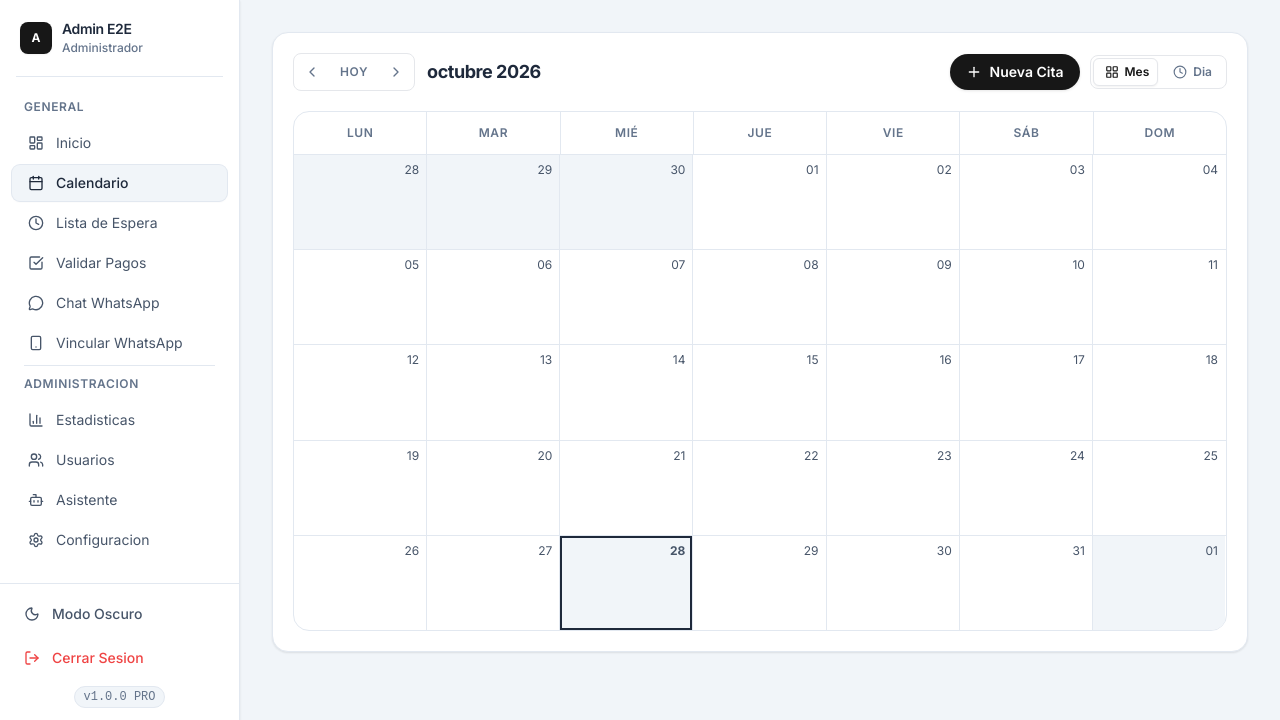
Test case: Calendario — crear cita › muestra el error del backend ante conflicto de horario
The image size is (1280, 720).
Click the button "Nueva Cita". click: (1015, 72)
box: [950, 54, 1080, 90]
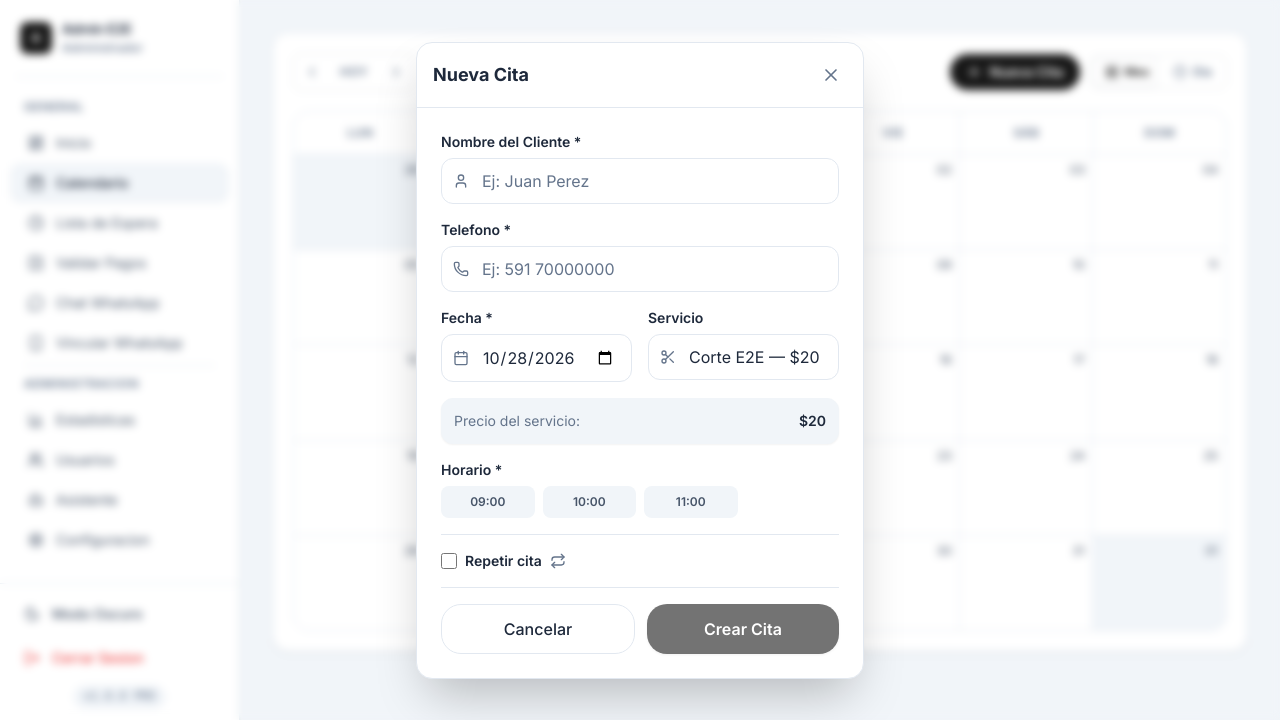
expect the dialog is shown: met, box [416, 42, 864, 679]
Type "Juan E2E" into the field with placeholder "Ej: Juan Perez". click: (640, 181)
box: [441, 158, 839, 204]
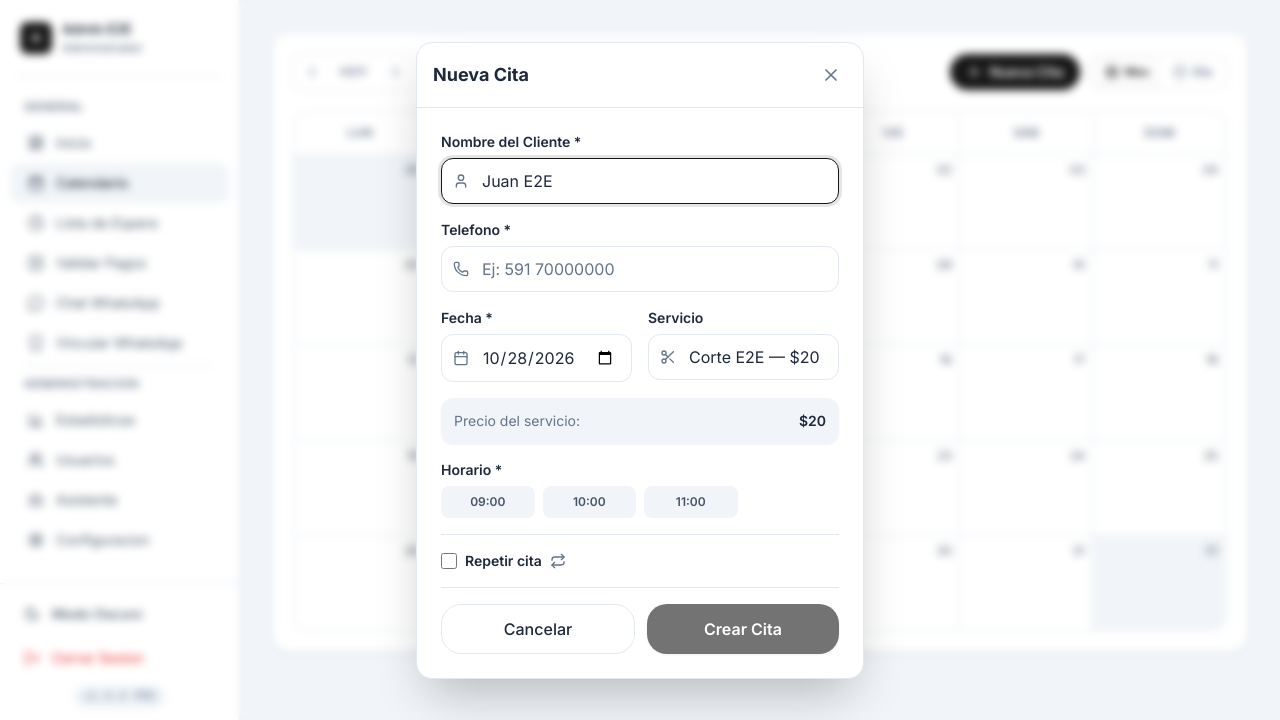
Type "61234567" into the field with placeholder "Ej: 591 70000000". click: (640, 269)
box: [441, 246, 839, 292]
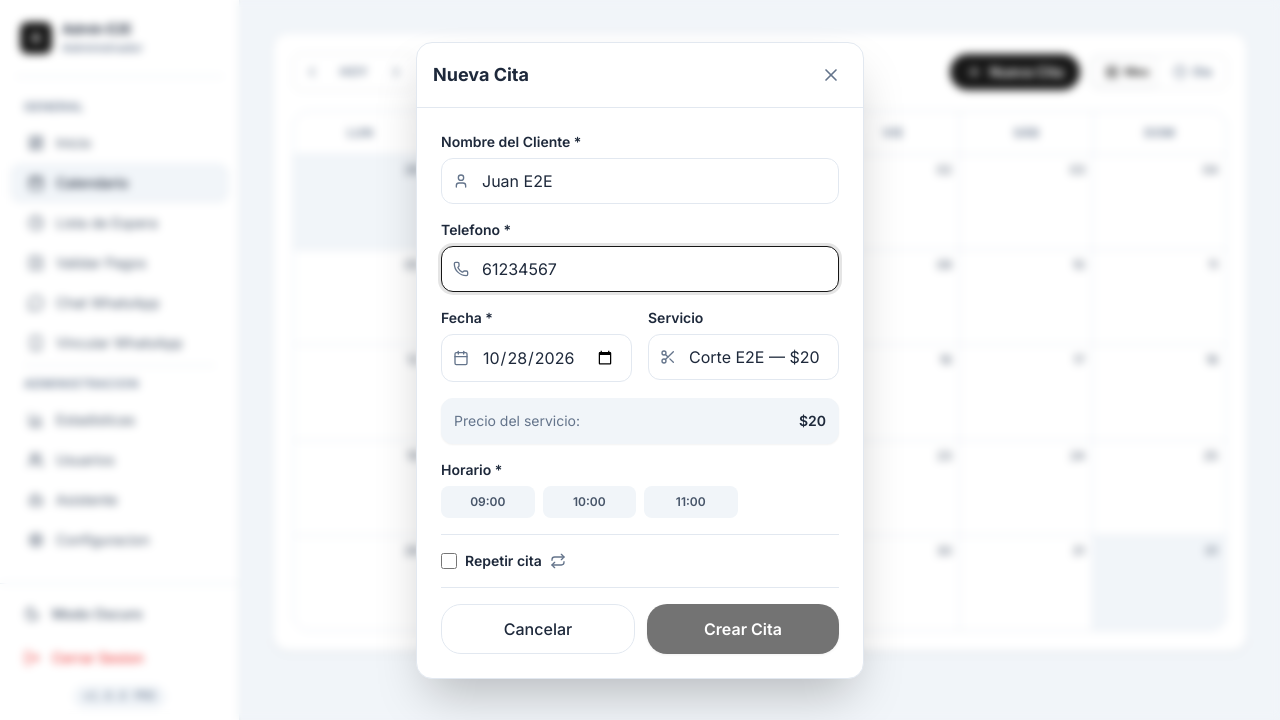
Select "Corte E2E — $20 (30 min)" in the dropdown. click: (744, 357)
box: [648, 334, 839, 380]
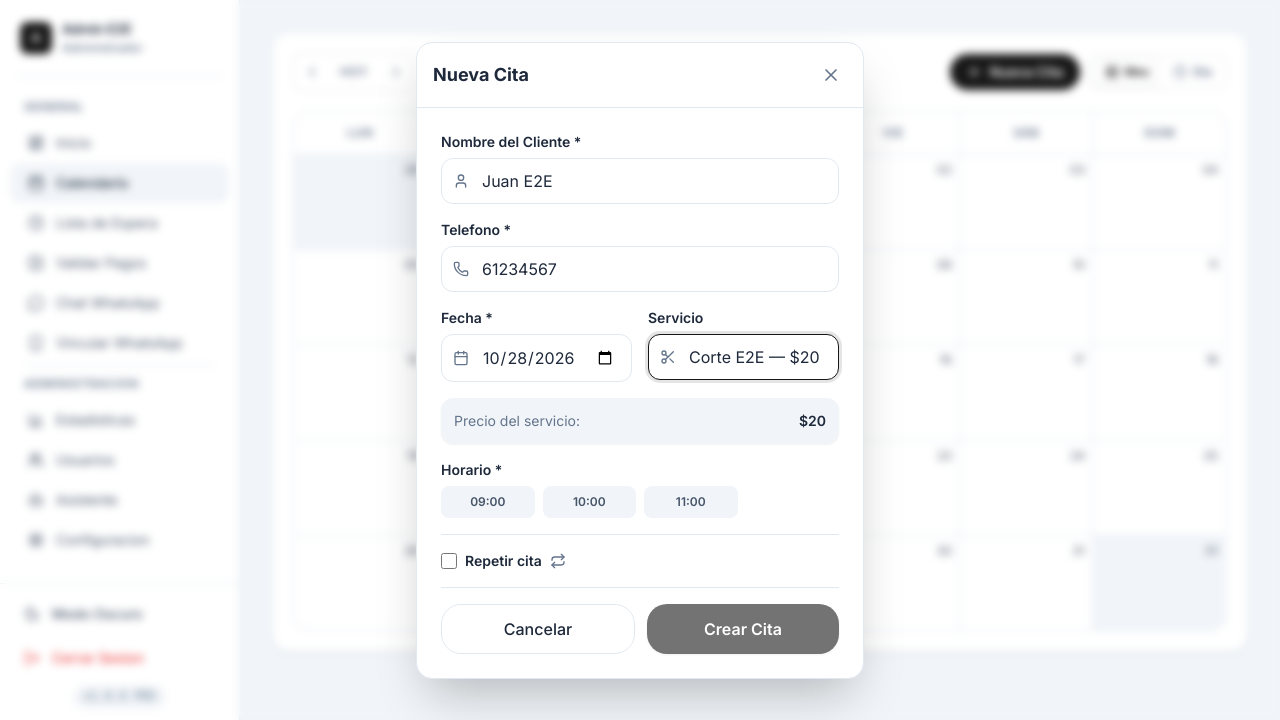
Click the button "09:00". click: (488, 502)
box: [441, 486, 535, 518]
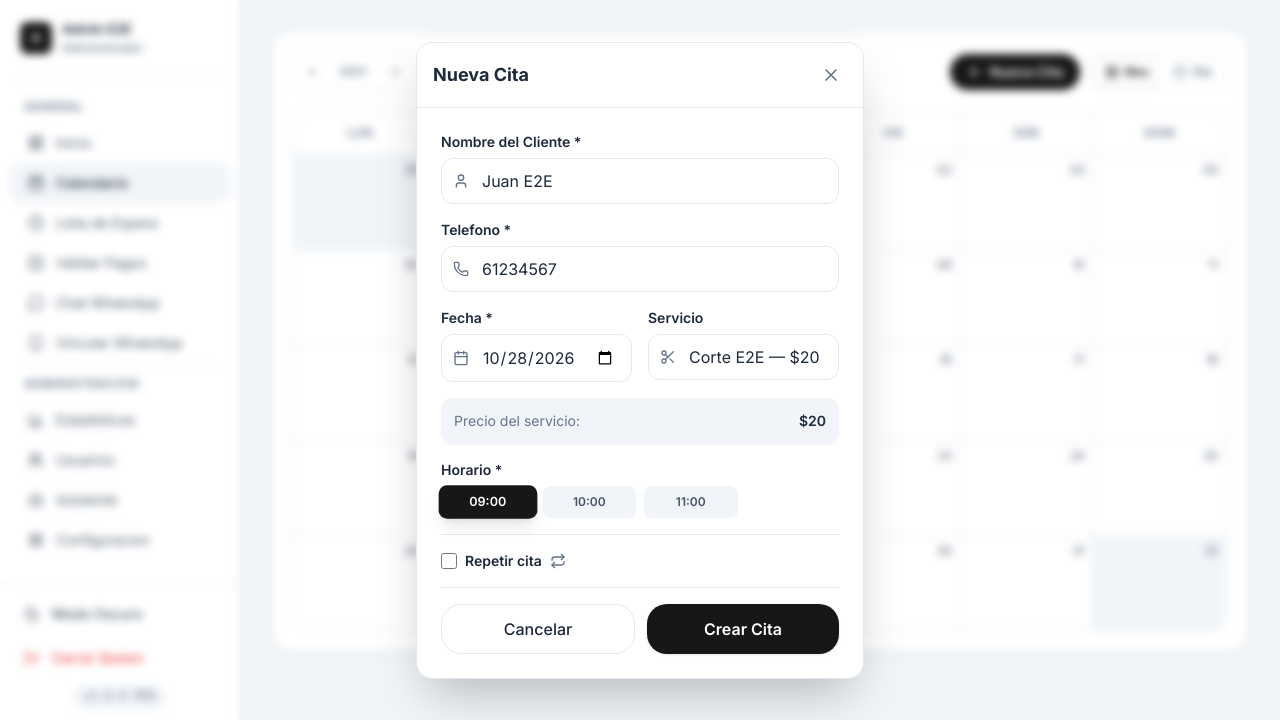
Click the button "Crear Cita". click: (743, 629)
box: [647, 604, 839, 654]
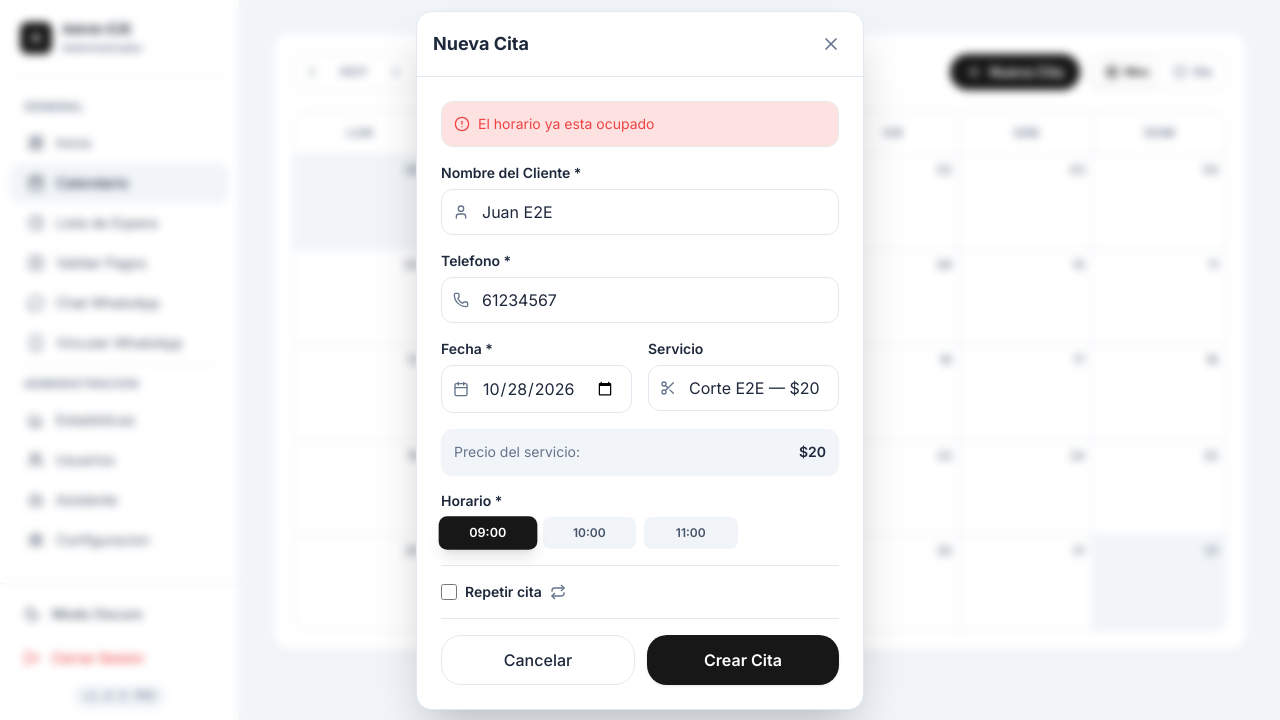
expect the dialog is shown: met, box [416, 11, 864, 710]
expect the text "El horario ya esta ocupado" is shown: met, box [478, 114, 654, 134]
